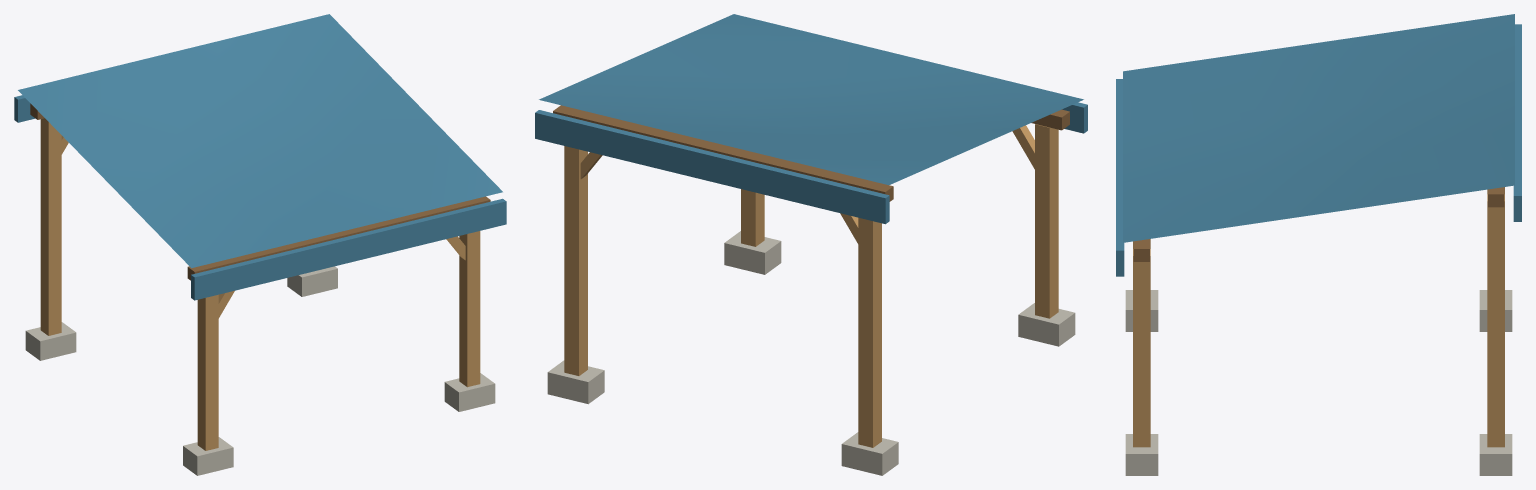
Rendered from abri-bache.glb.
The picture shows the model from 3 angles, left to right: view 1: azimuth 30°, elevation 25°; view 2: azimuth 150°, elevation 25°; view 3: azimuth 270°, elevation 25°; orthographic projection. The views are drawn at different scales.
Visible parts, largest first — view 1: bache, ourlet-arriere, perche-1, perche-3, perche-4, panne-arriere, lest-1, lest-4, lest-3, lest-2; view 2: bache, ourlet-avant, perche-1, perche-2, perche-3, panne-avant, lest-2, lest-1, lest-3, lest-4, perche-4; view 3: bache, perche-2, perche-4, ourlet-avant, ourlet-arriere, lest-2, lest-4, lest-1, lest-3.
Part boxes in pixels (x1,y1,x2,y2): bache: (18, 14, 502, 268); ourlet-arriere: (191, 198, 506, 300); perche-1: (40, 118, 61, 335); perche-3: (197, 294, 218, 450); perche-4: (459, 231, 480, 387); panne-arriere: (187, 196, 490, 280); lest-1: (25, 322, 76, 360); lest-4: (444, 373, 495, 411); lest-3: (183, 437, 233, 475); lest-2: (287, 266, 337, 296); bache: (539, 14, 1083, 185); ourlet-avant: (535, 110, 889, 224); perche-1: (858, 217, 881, 447); perche-2: (564, 146, 587, 375); perche-3: (1035, 124, 1058, 318); panne-avant: (553, 105, 893, 201); lest-2: (547, 360, 604, 404); lest-1: (841, 432, 898, 475); lest-3: (1018, 303, 1075, 346); lest-4: (724, 231, 781, 274); perche-4: (741, 189, 764, 246); bache: (1123, 14, 1514, 242); perche-2: (1487, 194, 1504, 447); perche-4: (1133, 249, 1150, 447); ourlet-avant: (1513, 24, 1521, 221); ourlet-arriere: (1116, 79, 1124, 276); lest-2: (1479, 434, 1512, 475); lest-4: (1125, 434, 1158, 475); lest-1: (1479, 290, 1512, 331); lest-3: (1125, 290, 1158, 331).
Size of the model in its own units: 0.15 by 0.12 by 0.15.
